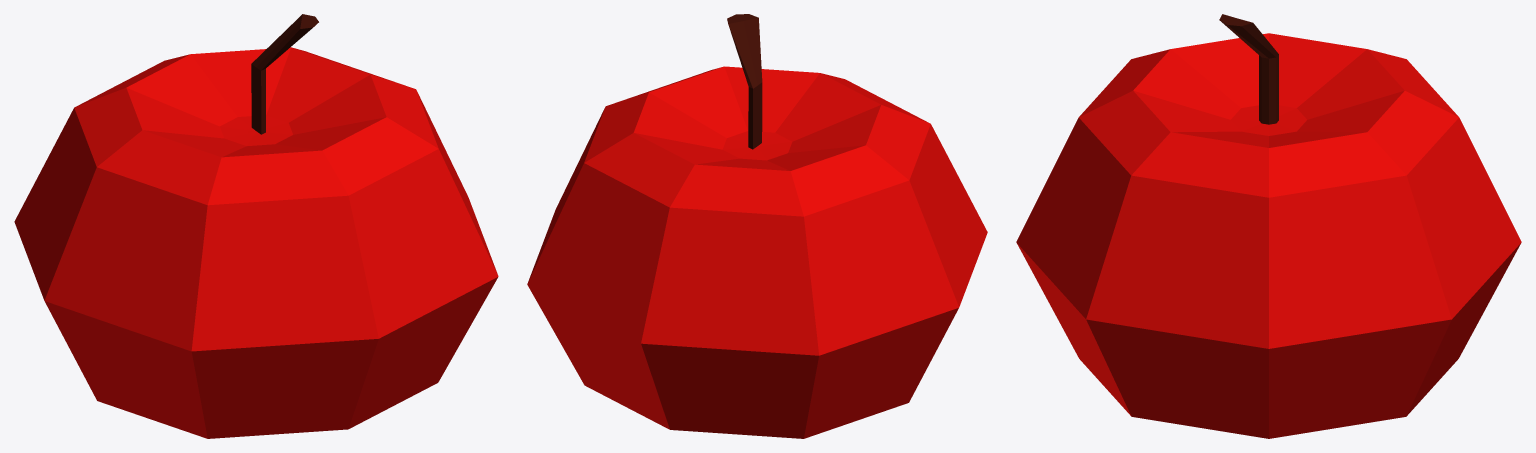
The model's file is Apple.fbx.
3 views of the same model, side by side, from view 1: azimuth 30°, elevation 25°; view 2: azimuth 150°, elevation 25°; view 3: azimuth 270°, elevation 25° (orthographic). The views are drawn at different scales.
Visible parts, largest first — view 1: Cube; view 2: Cube; view 3: Cube.
Boxes of the visible parts, x1=… form: Cube: x1=14, y1=14, x2=498, y2=438; Cube: x1=527, y1=14, x2=987, y2=438; Cube: x1=1016, y1=14, x2=1521, y2=438.
Size of the model in its own units: 33.65 by 29.95 by 33.65.
